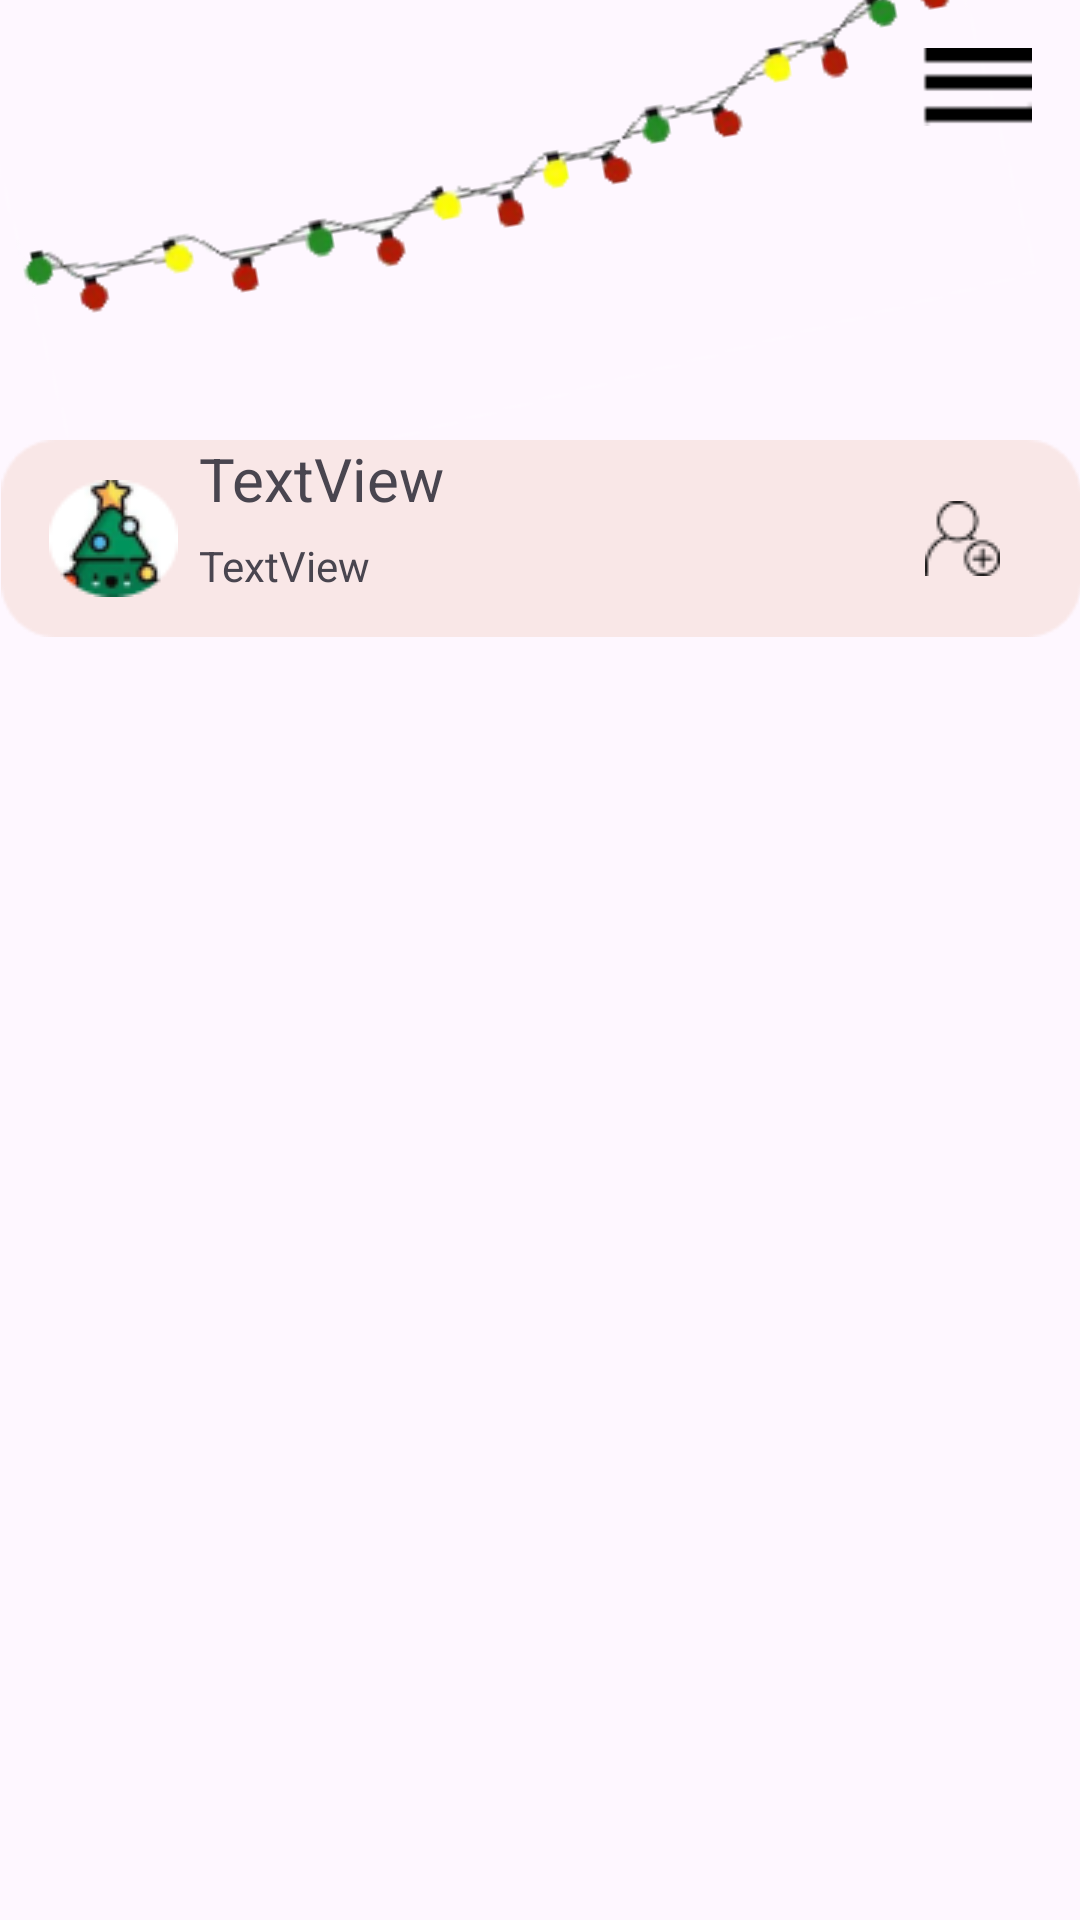

Icon click points for this 1080 x 1920 phone screenshot, format (x,y):
add user: (962,538)
